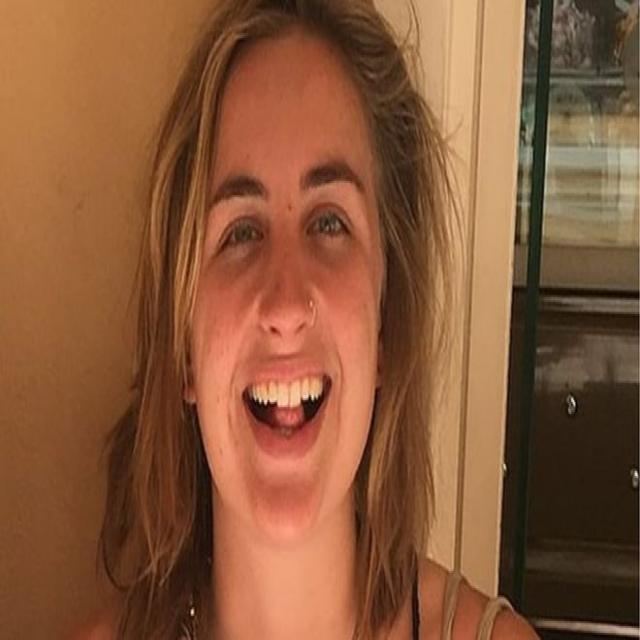mobile_phonerotation: (70, 0, 543, 637)
